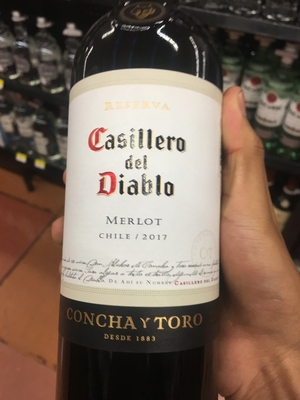casillero del diablo merlot: (56, 22, 228, 400)
